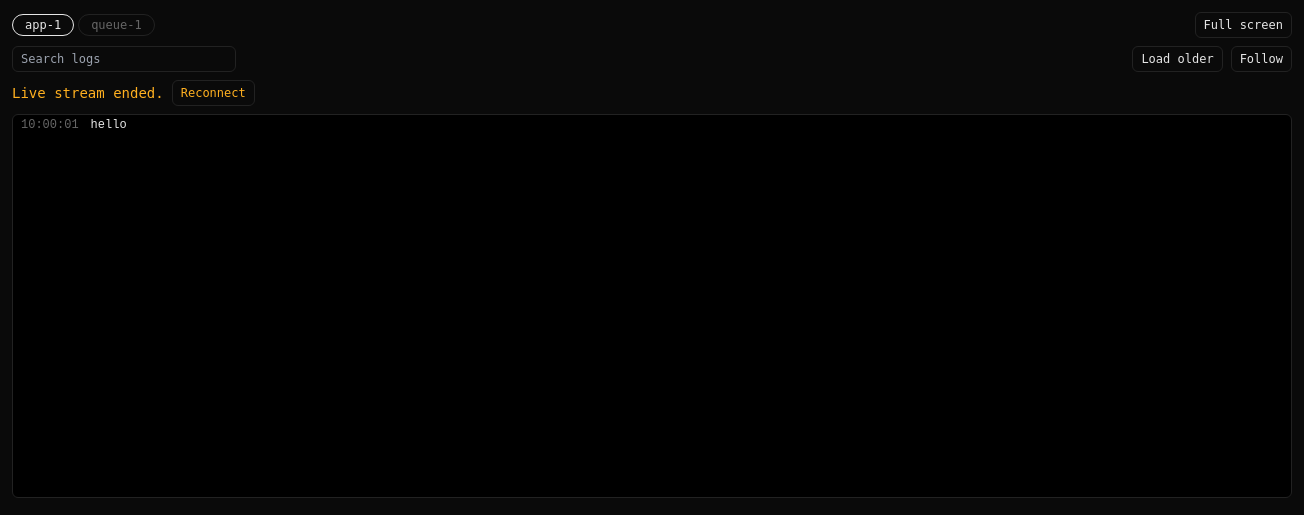
Test: LogViewer › tells you when the live stream ended and lets you reconnect
Expected: the text "hello" is shown, top-left (91, 115), bottom-right (127, 135)
Expected: the text "Live stream ended. Reconnect" is shown, top-left (12, 80), bottom-right (255, 106)
Click the button "Reconnect": click(213, 93) top-left (172, 80), bottom-right (255, 106)
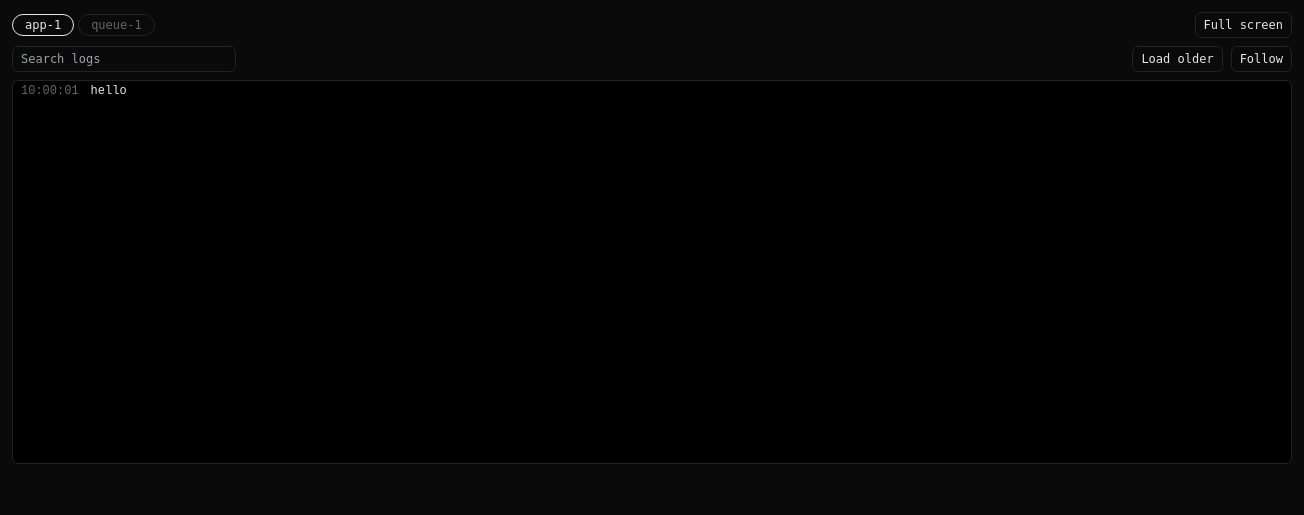
Expected: the text "Live stream ended" is gone
